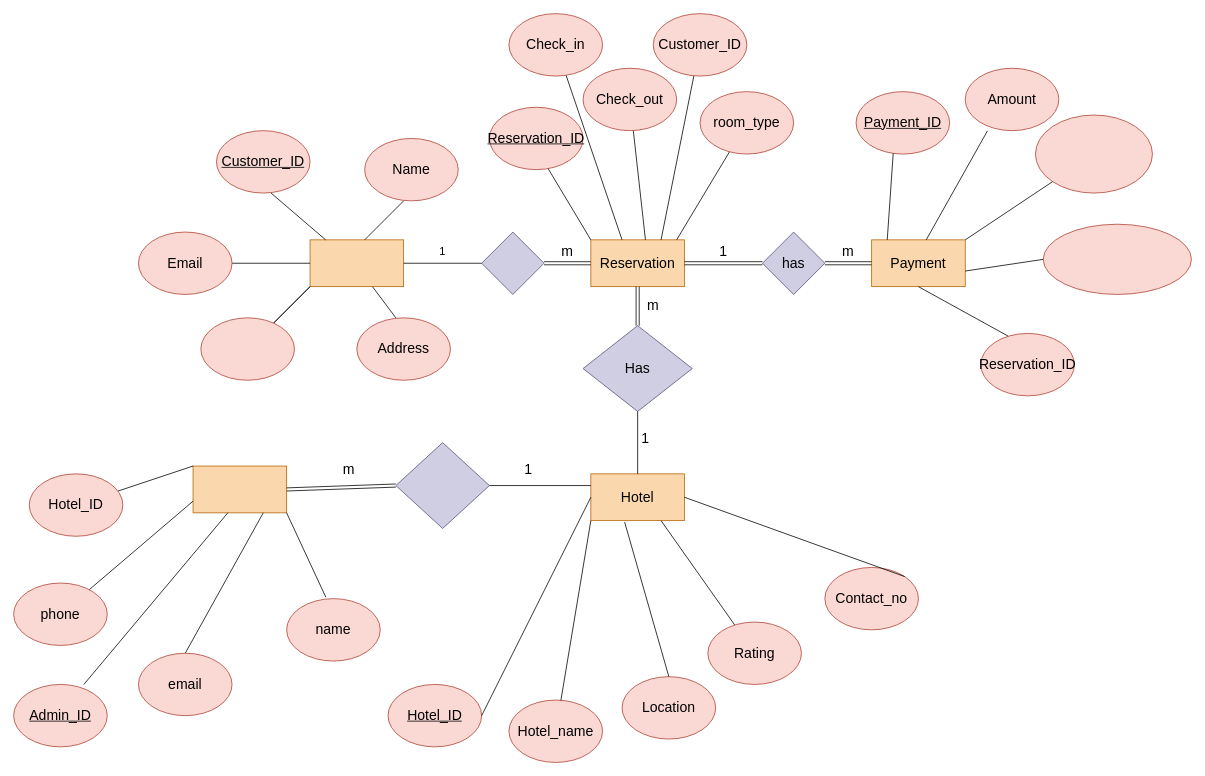
Image size: 1205x776. Some labels were removed from this diagram. Each missing label, with the centre of its shape:
Admin: the point at 239,489
Customer: the point at 356,263
Makes: the point at 512,262
Managed By: the point at 442,485
Payment_Date: the point at 1116,258
Payment_Method: the point at 1093,153
Phone_no: the point at 247,348
